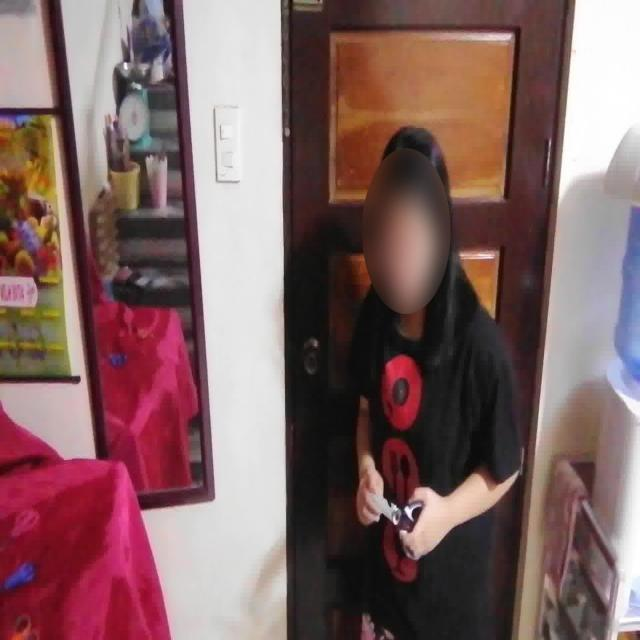scissor: (366, 488, 426, 562)
